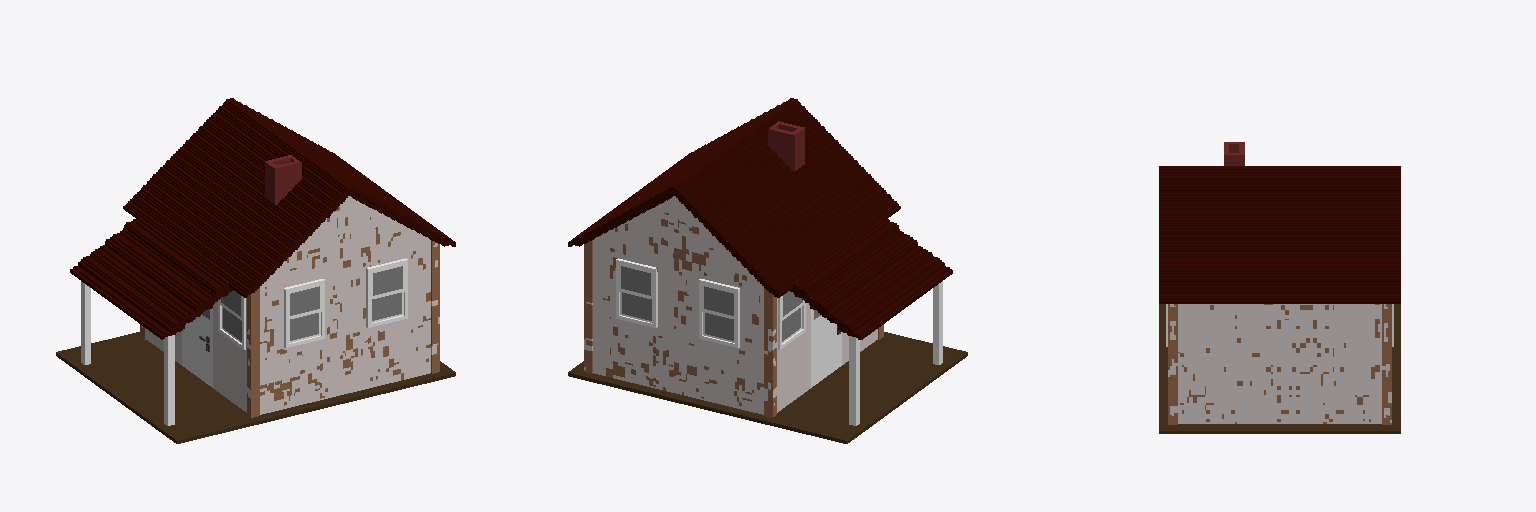
3 views of the same model, side by side, from view 1: azimuth 30°, elevation 25°; view 2: azimuth 150°, elevation 25°; view 3: azimuth 270°, elevation 25° (orthographic).
Parts seen in each view (by area): view 1: object 1; view 2: object 1; view 3: object 1.
Boxes of the visible parts, x1,y1,x2,y2 form: object 1: [56, 98, 455, 443]; object 1: [568, 98, 967, 443]; object 1: [1159, 142, 1400, 433].
Size of the model in its own units: 16.9 by 12.7 by 12.7.
Materials: 1 (1 with a texture image).